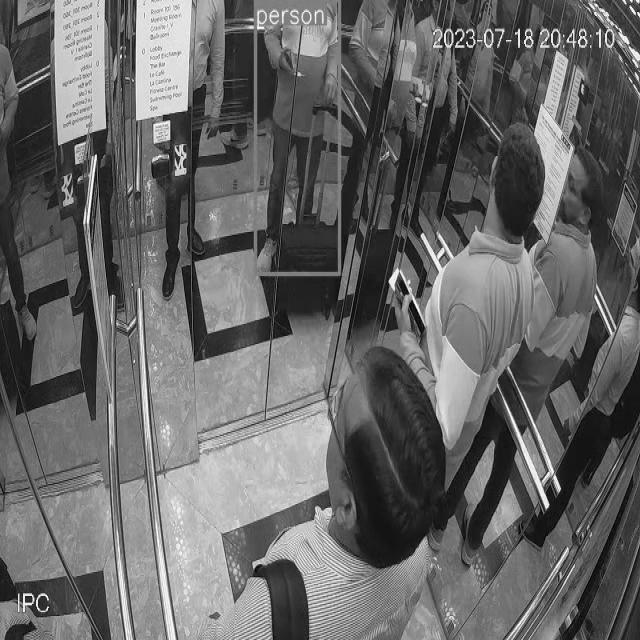person: (216, 299, 473, 640), (437, 124, 556, 518), (254, 0, 339, 274), (161, 0, 229, 304)
